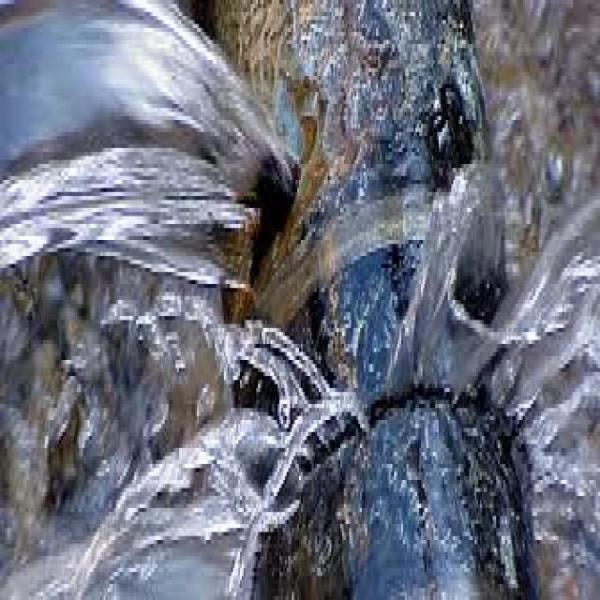pipe burst: (16, 152, 600, 600), (0, 0, 322, 298)
